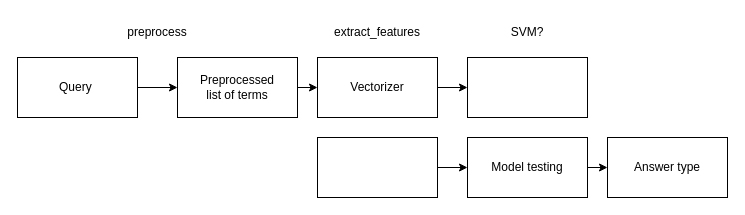
The diagram is 745 pixels wide and 215 high, and some of its shapes have lost their labels. Here are the shapes that lost their labels. From the top down, the box of each, then its label:
(466, 56, 588, 118): Model training
(316, 136, 438, 198): Testing data
